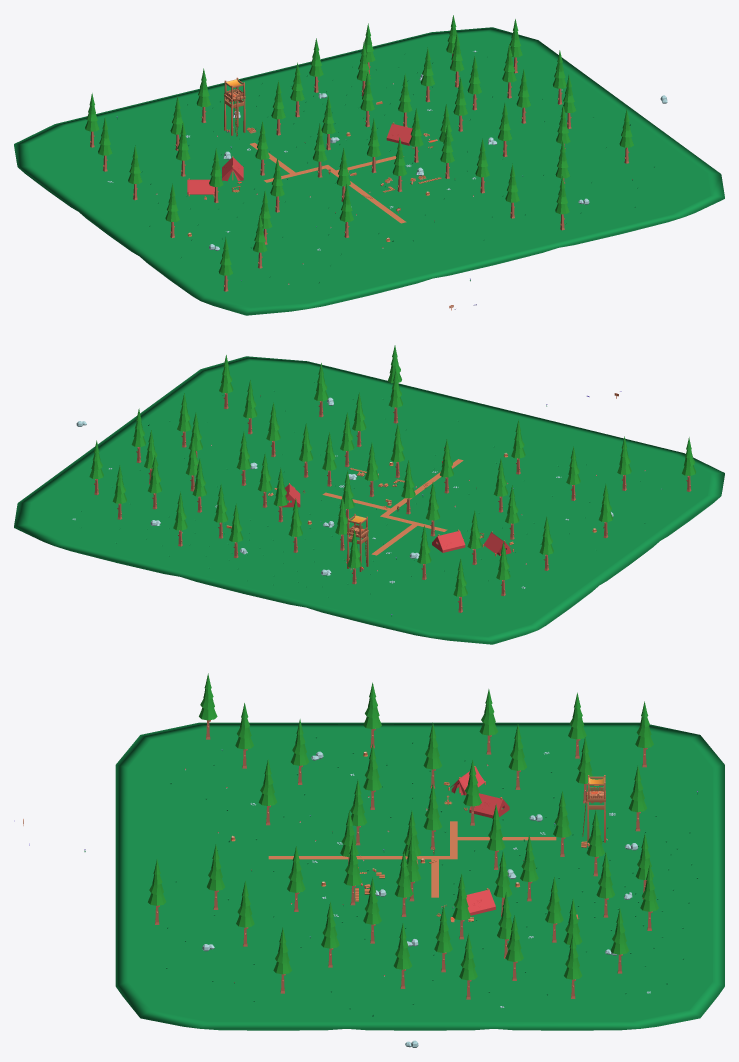
The model's file is Serbian.obj.
The picture shows the model from 3 angles, top to bottom: view 1: azimuth 30°, elevation 25°; view 2: azimuth 150°, elevation 25°; view 3: azimuth 270°, elevation 25°; orthographic projection. The views are drawn at different scales.
Parts seen in each view (by area): view 1: mergedBlocks; view 2: mergedBlocks; view 3: mergedBlocks.
Part boxes in pixels (bbox=[...]): mergedBlocks: bbox=[14, 15, 724, 315]; mergedBlocks: bbox=[14, 345, 724, 644]; mergedBlocks: bbox=[14, 673, 724, 1047].
Bounding box in the file's own units: 98.97 × 9.77 × 91.11.
22 materials, 2 textured.
